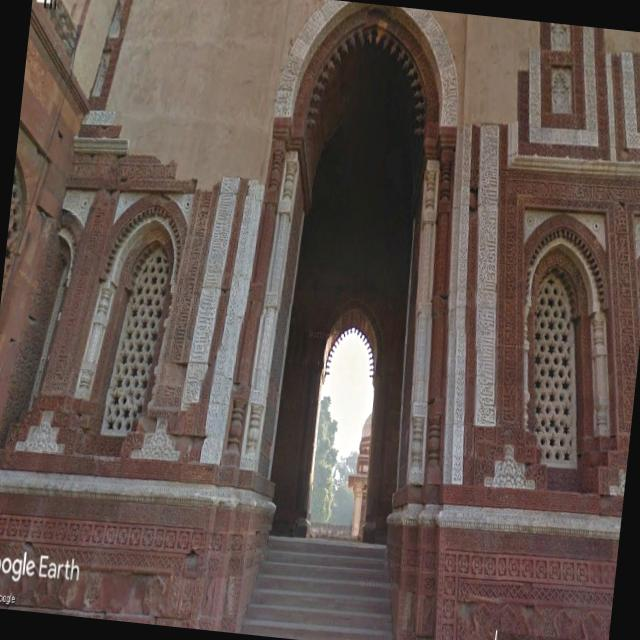objects-ruins-artifacts: (356, 60, 640, 345), (11, 124, 304, 398)
